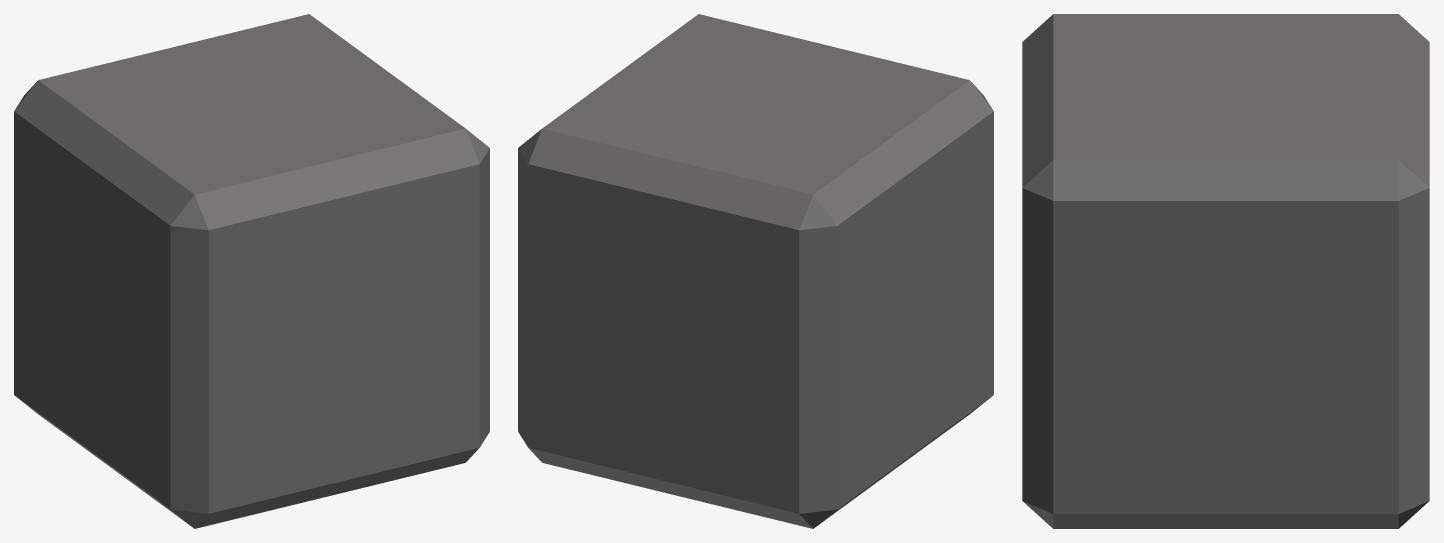
Rendered from ButtonMix.obj.
3 views of the same model, side by side, from view 1: azimuth 30°, elevation 25°; view 2: azimuth 150°, elevation 25°; view 3: azimuth 270°, elevation 25° (orthographic). The views are drawn at different scales.
Parts seen in each view (by area): view 1: Cube.002; view 2: Cube.002; view 3: Cube.002.
Boxes of the visible parts, box(x1,y1,x2,y2) form: Cube.002: box(14, 14, 489, 528); Cube.002: box(518, 14, 993, 528); Cube.002: box(1022, 14, 1429, 528).
Size of the model in its own units: 0.156 by 0.156 by 0.156.
1 material, 1 textured.
